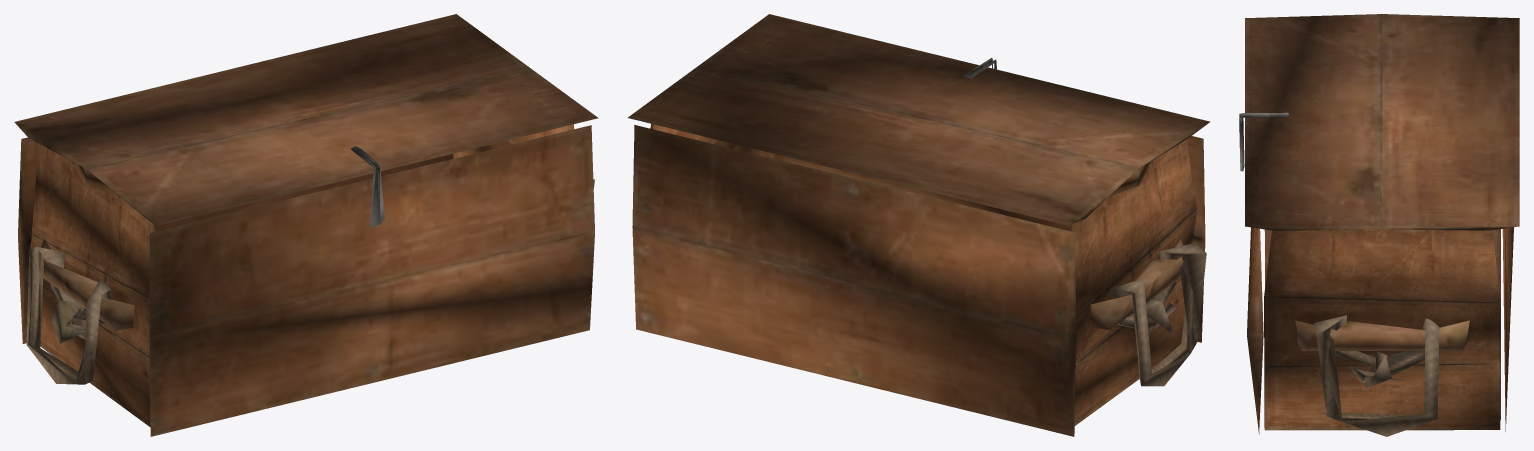
Rendered from crate.glb.
The picture shows the model from 3 angles, left to right: view 1: azimuth 30°, elevation 25°; view 2: azimuth 150°, elevation 25°; view 3: azimuth 270°, elevation 25°; orthographic projection. The views are drawn at different scales.
Parts seen in each view (by area): view 1: wooden_crate_01, wooden_crate_01_lid, wooden_crate_01_latch; view 2: wooden_crate_01, wooden_crate_01_lid; view 3: wooden_crate_01_lid, wooden_crate_01, wooden_crate_01_latch.
Part boxes in pixels (x1,y1,x2,y2): wooden_crate_01: [18, 124, 594, 436]; wooden_crate_01_lid: [14, 14, 598, 225]; wooden_crate_01_latch: [350, 146, 384, 227]; wooden_crate_01: [632, 123, 1206, 436]; wooden_crate_01_lid: [627, 14, 1210, 225]; wooden_crate_01_lid: [1245, 14, 1519, 230]; wooden_crate_01: [1247, 227, 1513, 436]; wooden_crate_01_latch: [1239, 112, 1289, 171].
Bounding box in the file's own units: 0.8153 × 0.3465 × 0.402.
Materials: 1 (1 with a texture image).
